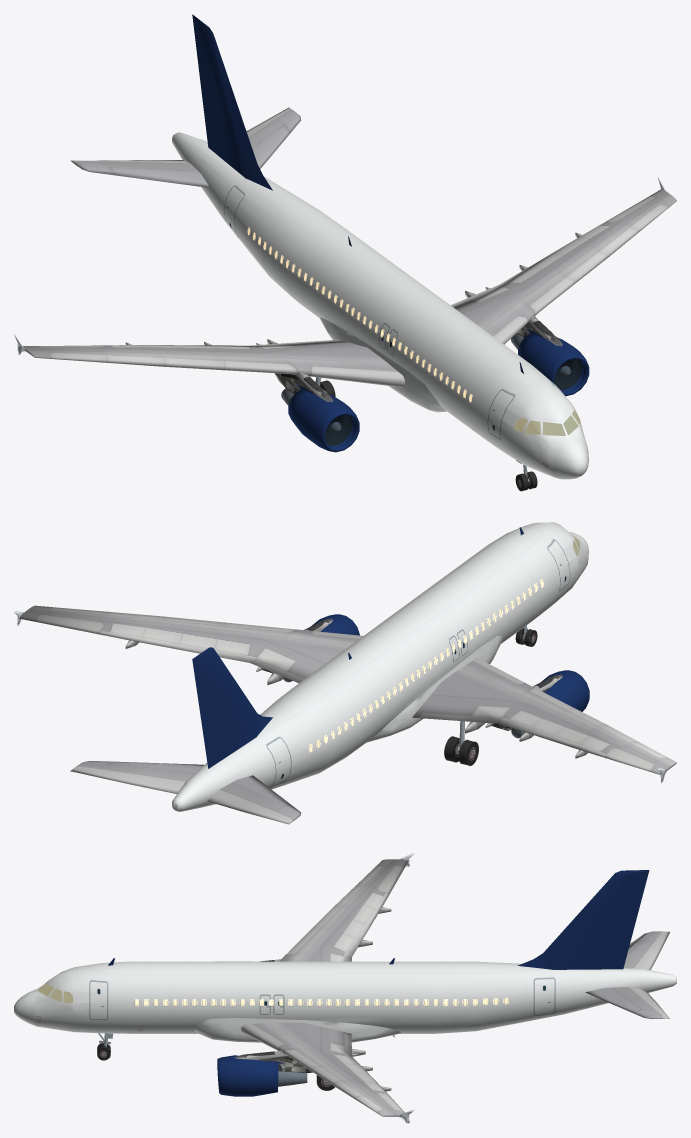
3 views of the same model, one above another, from view 1: azimuth 30°, elevation 25°; view 2: azimuth 150°, elevation 25°; view 3: azimuth 270°, elevation 25° (orthographic). The views are drawn at different scales.
Visible parts, largest first — view 1: body, wing, tail, nacelle, cockpit; view 2: body, wing, tail, nacelle; view 3: body, wing, tail, nacelle.
Part boxes in pixels (bbox=[...]): body: bbox=[172, 132, 588, 479]; wing: bbox=[23, 107, 676, 402]; tail: bbox=[192, 14, 523, 373]; nacelle: bbox=[288, 328, 589, 452]; cockpit: bbox=[514, 406, 579, 436]; body: bbox=[172, 522, 588, 811]; wing: bbox=[19, 605, 676, 824]; tail: bbox=[192, 527, 523, 768]; nacelle: bbox=[312, 614, 589, 711]; body: bbox=[14, 961, 676, 1042]; wing: bbox=[234, 859, 669, 1116]; tail: bbox=[108, 870, 649, 969]; nacelle: bbox=[217, 1055, 285, 1096].
Bounding box in the file's own units: 34.37 × 11.77 × 37.57.
11 materials, 4 textured.
